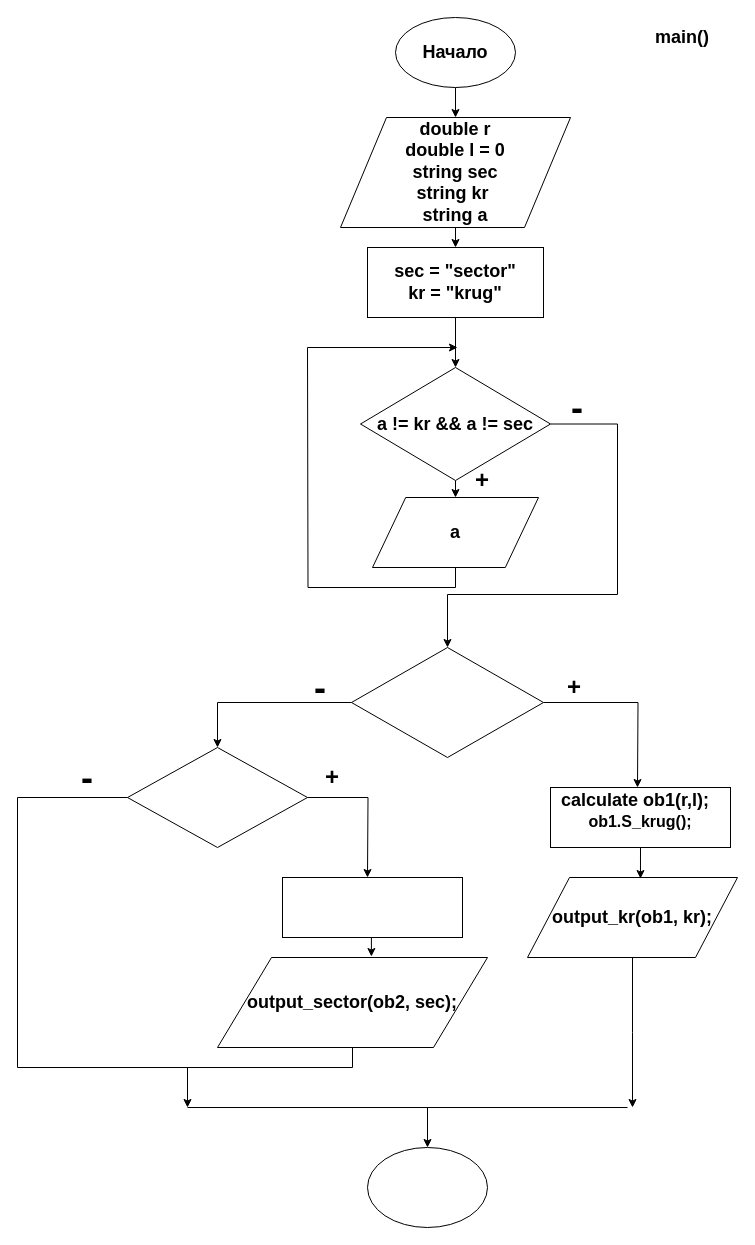
This 755x1245 diagram has some shape labels left out. The centre of each missing label's shape, as x and y in pixels:
"a == kr" belongs at (447,702).
"a == sec" belongs at (217,797).
"calculate ob2(r,l); ob2.S_sector();" belongs at (372,907).
"Конец" belongs at (427,1187).
